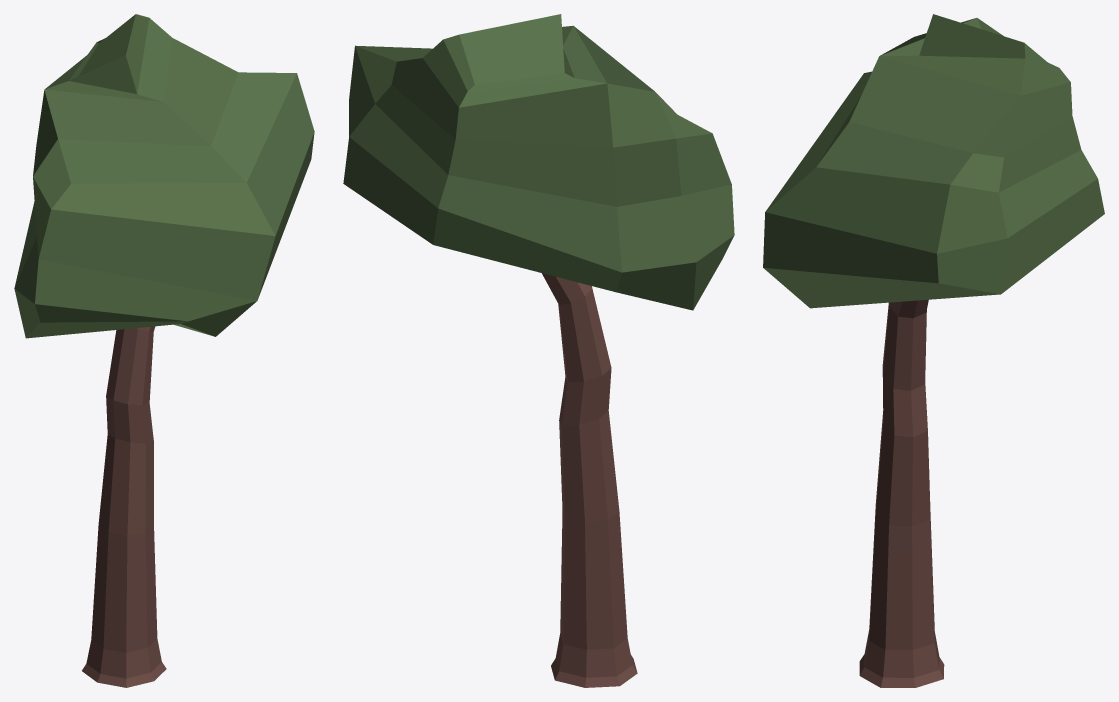
File: Apple_2.glb
The picture shows the model from 3 angles, left to right: view 1: azimuth 30°, elevation 25°; view 2: azimuth 150°, elevation 25°; view 3: azimuth 270°, elevation 25°; orthographic projection. The views are drawn at different scales.
Parts seen in each view (by area): view 1: Apple_2; view 2: Apple_2; view 3: Apple_2.
Part boxes in pixels (x1,y1,x2,y2): Apple_2: [14, 14, 314, 687]; Apple_2: [343, 14, 734, 687]; Apple_2: [763, 14, 1104, 687].
Bounding box in the file's own units: 0.5149 × 0.9389 × 0.4378.
